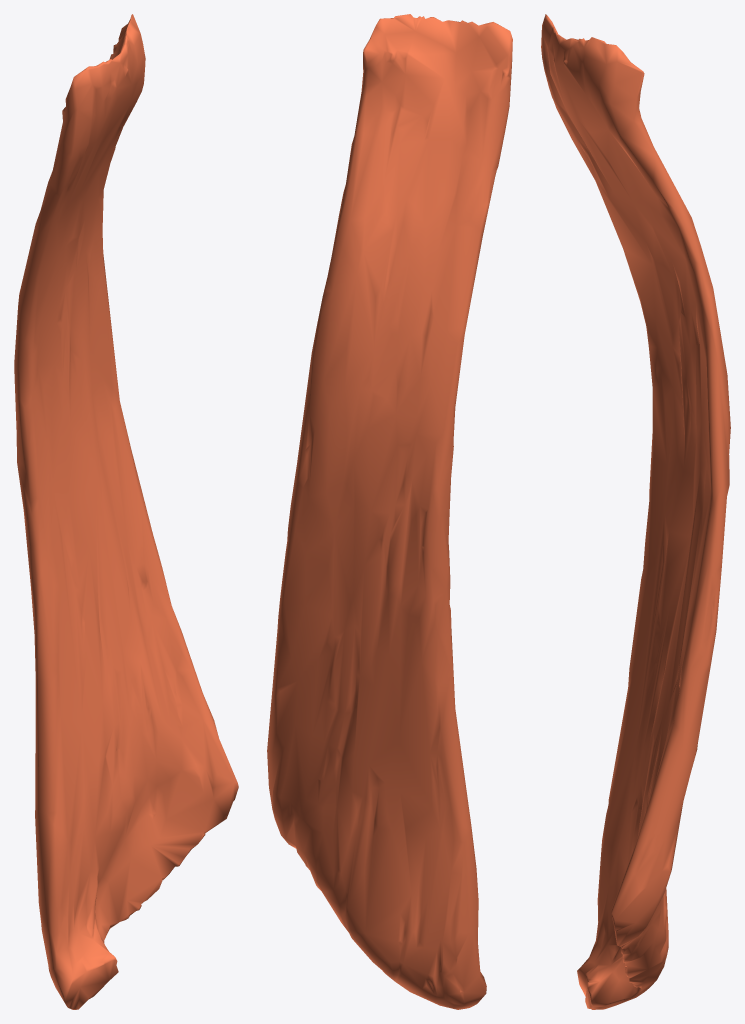
The model's file is Sternohyoid_left.glb.
The picture shows the model from 3 angles, left to right: view 1: azimuth 30°, elevation 25°; view 2: azimuth 150°, elevation 25°; view 3: azimuth 270°, elevation 25°; orthographic projection. The views are drawn at different scales.
Parts seen in each view (by area): view 1: Sternohyoid_muscle.l_Generated_Mesh_From_X3D.194; view 2: Sternohyoid_muscle.l_Generated_Mesh_From_X3D.194; view 3: Sternohyoid_muscle.l_Generated_Mesh_From_X3D.194.
Part boxes in pixels (x1,y1,x2,y2): Sternohyoid_muscle.l_Generated_Mesh_From_X3D.194: (14, 14, 238, 1009); Sternohyoid_muscle.l_Generated_Mesh_From_X3D.194: (267, 14, 512, 1009); Sternohyoid_muscle.l_Generated_Mesh_From_X3D.194: (541, 14, 730, 1009).
Size of the model in its own units: 0.0238 by 0.1081 by 0.0186.
